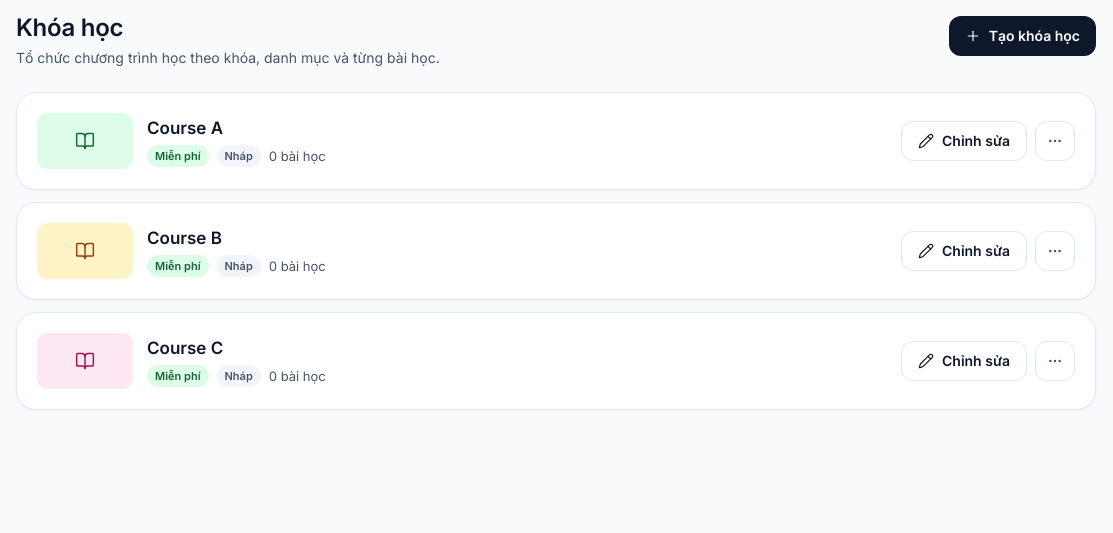
Test: StudioCourses - reorder courses (R18-04) › keeps the old order and shows a page-level error when the server refuses
Expected: the heading "Course B" is shown, x1=147 y1=228 x2=222 y2=248
Click the button named "Thao tác khác cho khóa học \"Course B\"" at (1055, 251), box x1=1035 y1=231 x2=1075 y2=271
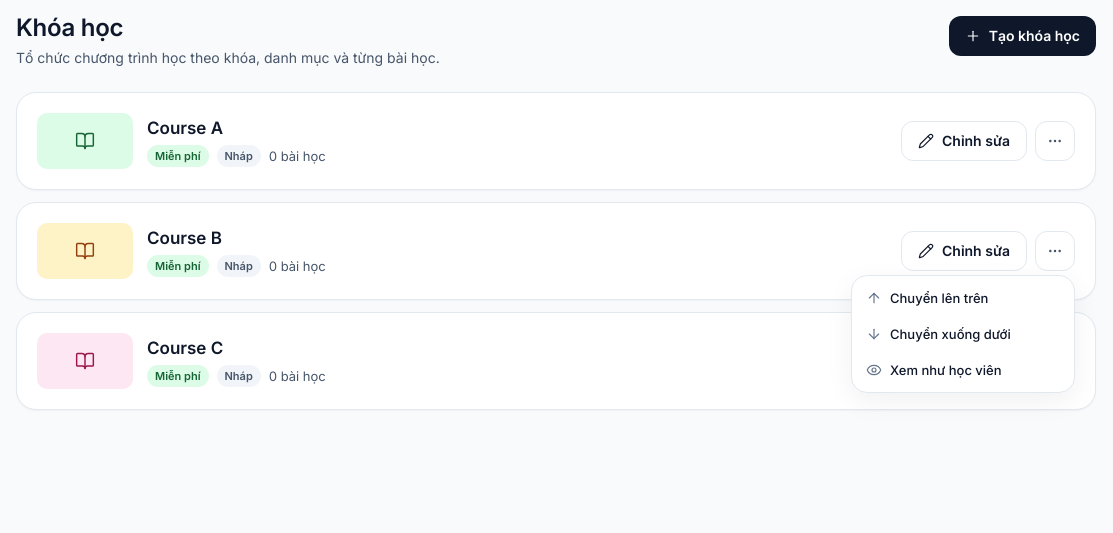
Click the menu item named "Chuyển khóa học \"Course B\" lên trên" at (963, 298), box x1=856 y1=280 x2=1070 y2=316
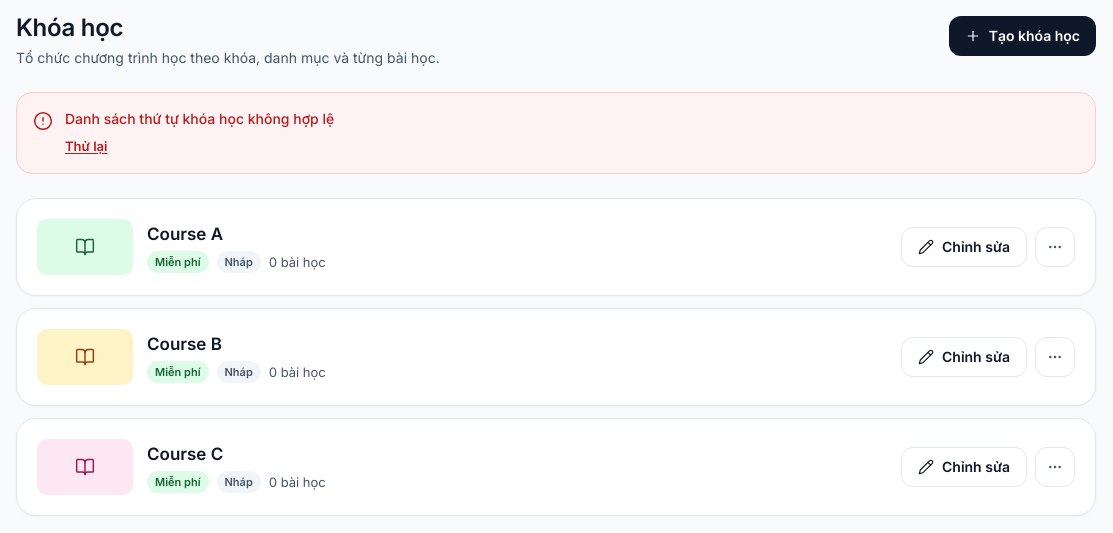
Expected: the text "Danh sách thứ tự khóa học không hợp lệ" is shown, x1=65 y1=110 x2=334 y2=127
